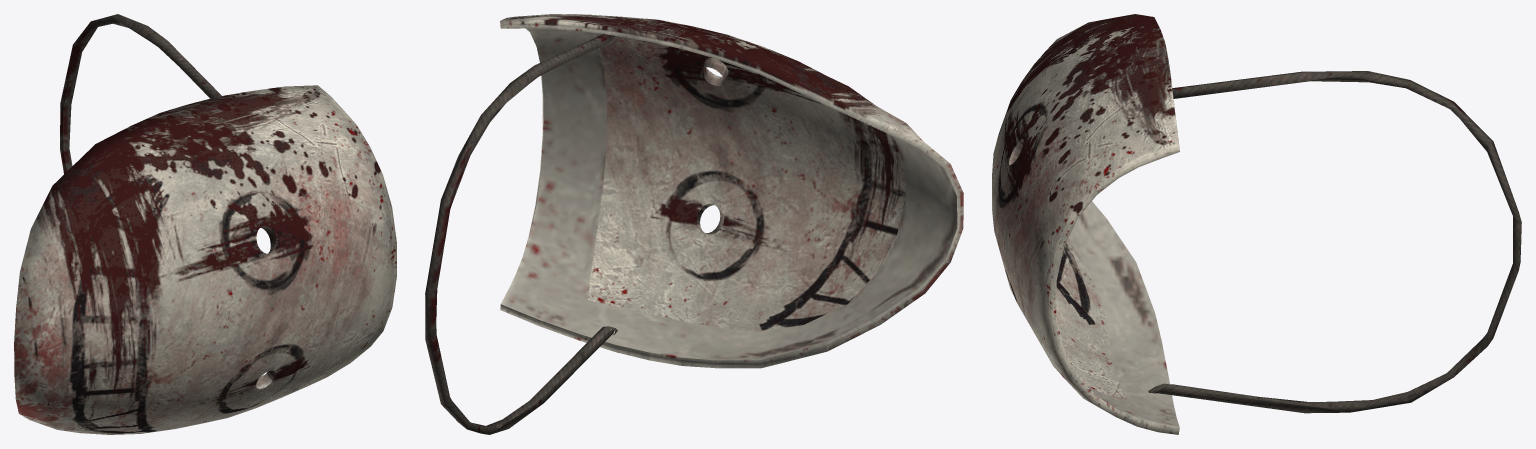
Rendered from F_LegionMask.fbx.
3 views of the same model, side by side, from view 1: azimuth 30°, elevation 25°; view 2: azimuth 150°, elevation 25°; view 3: azimuth 270°, elevation 25° (orthographic). The views are drawn at different scales.
Visible parts, largest first — view 1: 7_+mesh6.mesh6_0.1_16_16.001; view 2: 7_+mesh6.mesh6_0.1_16_16.001; view 3: 7_+mesh6.mesh6_0.1_16_16.001.
Part boxes in pixels (x1,y1,x2,y2): 7_+mesh6.mesh6_0.1_16_16.001: (14,14,396,434); 7_+mesh6.mesh6_0.1_16_16.001: (425,14,963,434); 7_+mesh6.mesh6_0.1_16_16.001: (992,14,1521,434).
Size of the model in its own units: 0.1341 by 0.1049 by 0.1481.
